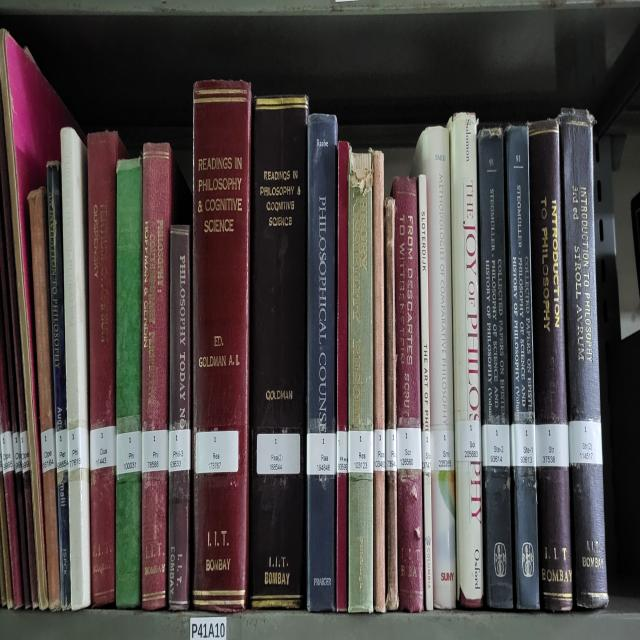Book: (192, 81, 251, 611), (250, 97, 309, 609), (560, 108, 608, 609), (141, 143, 189, 611), (529, 119, 572, 611), (414, 127, 456, 609), (88, 133, 126, 606), (448, 114, 484, 609), (478, 127, 514, 609), (505, 124, 540, 609), (306, 114, 338, 611), (61, 127, 91, 609), (392, 179, 424, 611), (29, 187, 60, 609), (115, 160, 142, 609), (348, 152, 374, 611), (46, 162, 71, 609), (169, 225, 191, 609), (418, 173, 434, 611), (336, 141, 350, 611), (372, 152, 386, 611), (385, 198, 399, 611)
Label: (195, 430, 239, 473), (256, 433, 300, 473), (569, 419, 602, 465), (535, 425, 569, 468), (306, 433, 336, 476), (481, 425, 510, 468), (141, 430, 169, 473), (90, 425, 116, 471), (116, 430, 141, 476), (455, 419, 481, 463), (396, 427, 421, 471), (349, 430, 374, 473), (430, 427, 454, 471), (511, 425, 536, 465), (68, 427, 89, 473), (169, 430, 190, 471), (41, 427, 56, 473), (385, 427, 398, 471), (55, 430, 68, 473), (336, 430, 348, 473), (374, 430, 385, 471), (421, 430, 431, 473)
